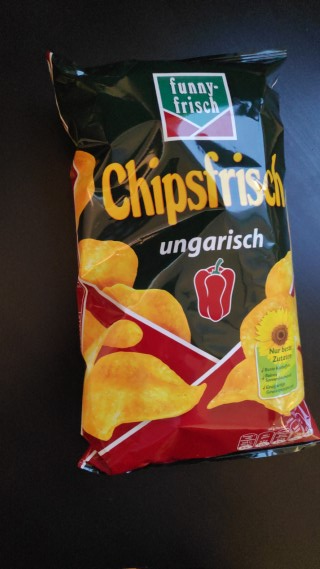chipsfrisch: (41, 43, 320, 478)
